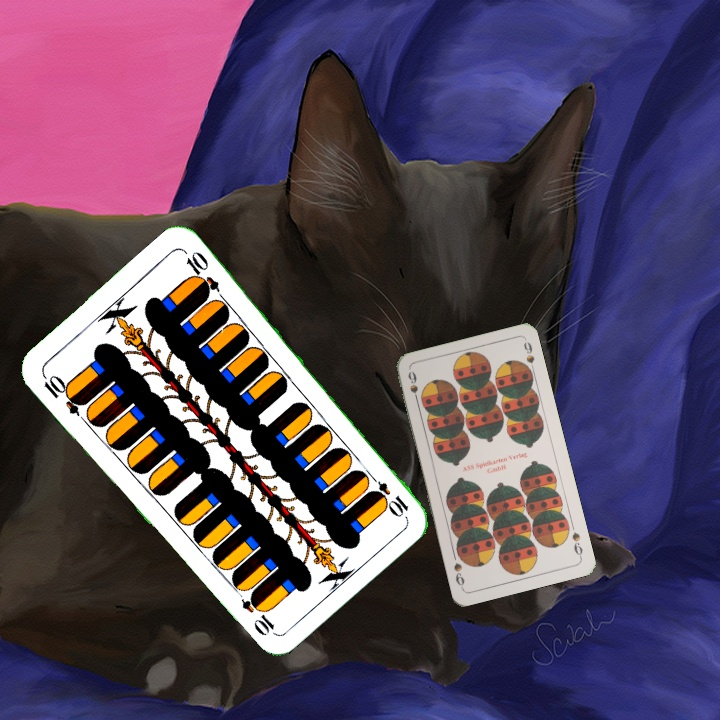E10: (363, 469, 412, 519), (38, 369, 88, 417)
S9: (404, 367, 422, 407), (568, 528, 585, 560)
